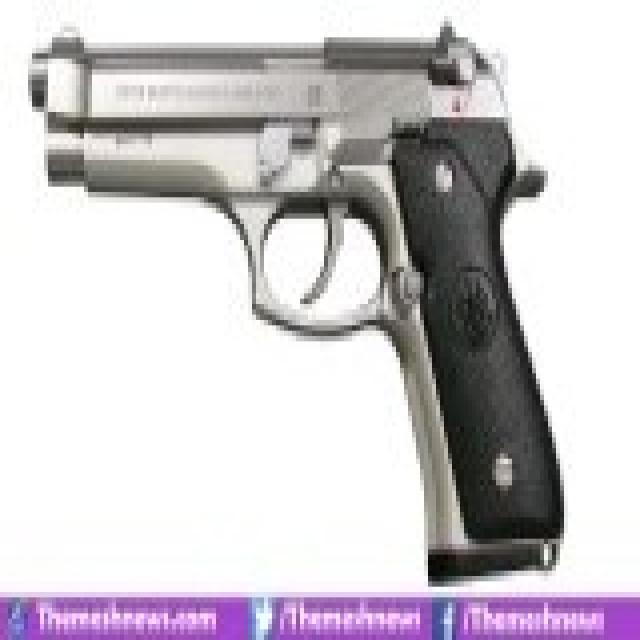Gun: (35, 14, 599, 589)
